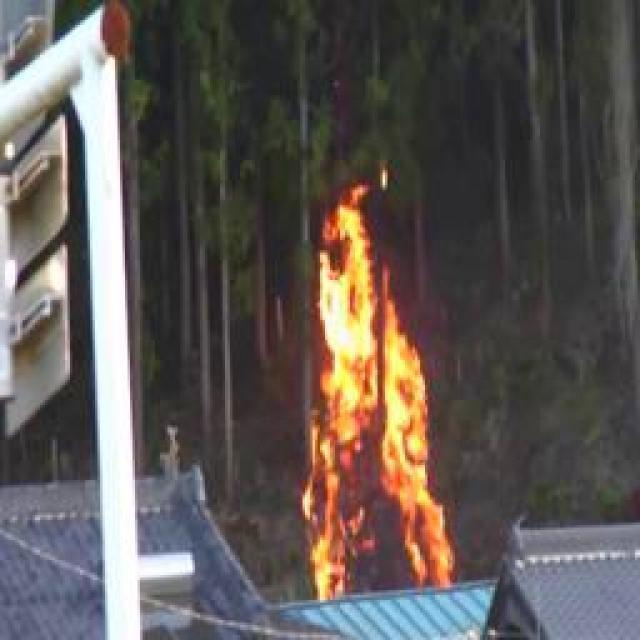Fire: (300, 202, 448, 608)
